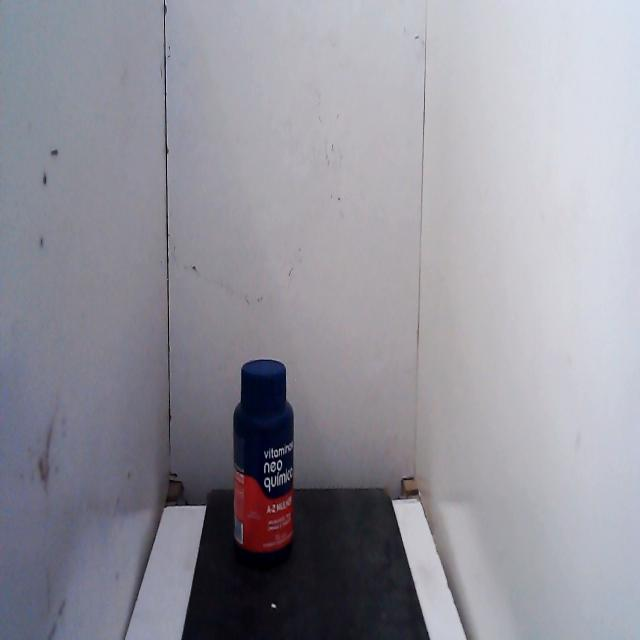plastic: (230, 352, 302, 567)
